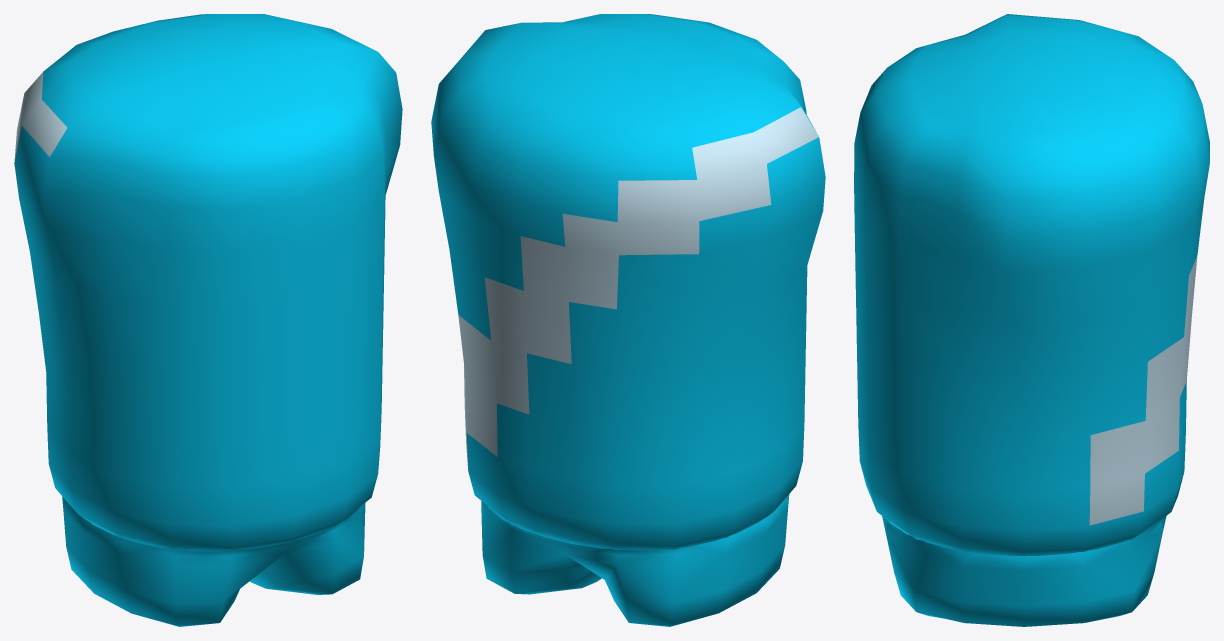
Rendered from Erling_body.glb.
The picture shows the model from 3 angles, left to right: view 1: azimuth 30°, elevation 25°; view 2: azimuth 150°, elevation 25°; view 3: azimuth 270°, elevation 25°; orthographic projection.
Visible parts, largest first — view 1: Messi_body; view 2: Messi_body; view 3: Messi_body.
Boxes of the visible parts, left/top/right/bottom form: Messi_body: left=14, top=14, right=402, bottom=626; Messi_body: left=431, top=14, right=825, bottom=626; Messi_body: left=854, top=14, right=1209, bottom=626.
Size of the model in its own units: 2.22 by 3.08 by 1.9.
